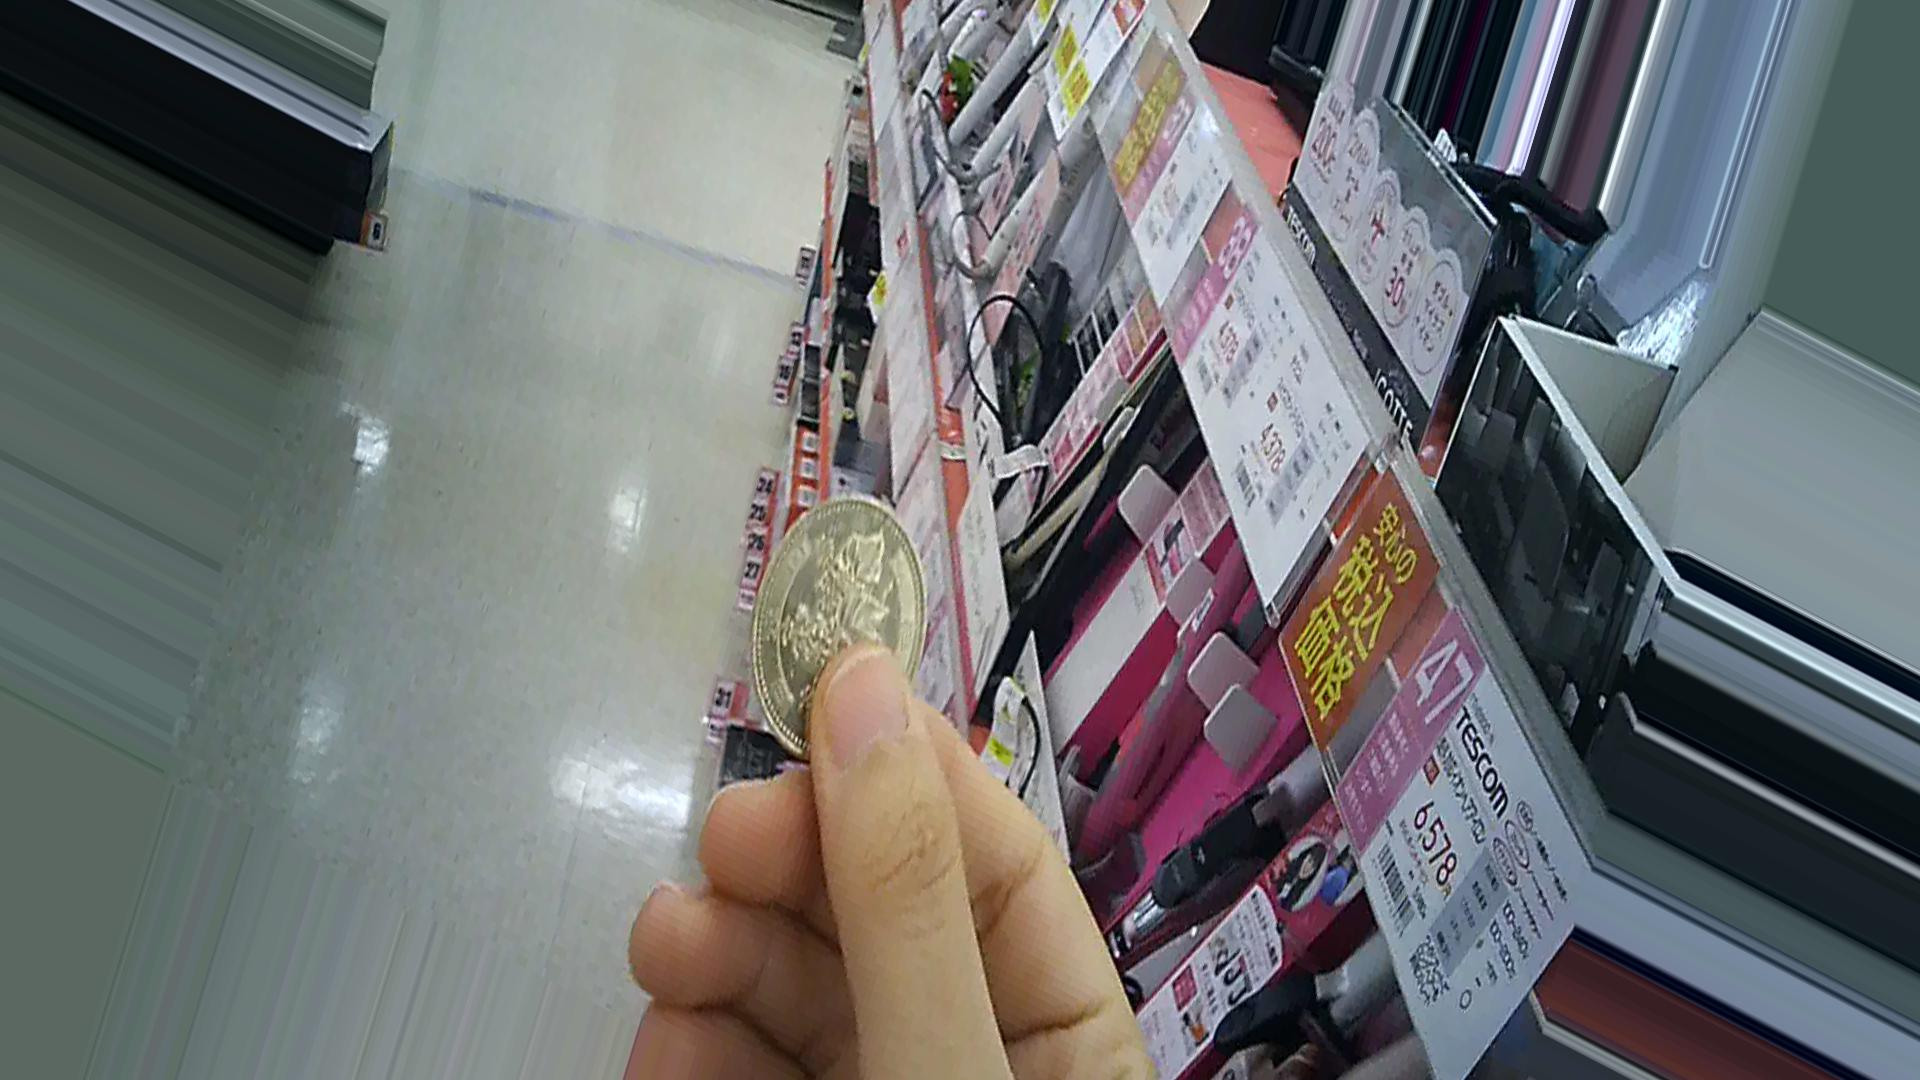500 Yen: (742, 491, 932, 736)
